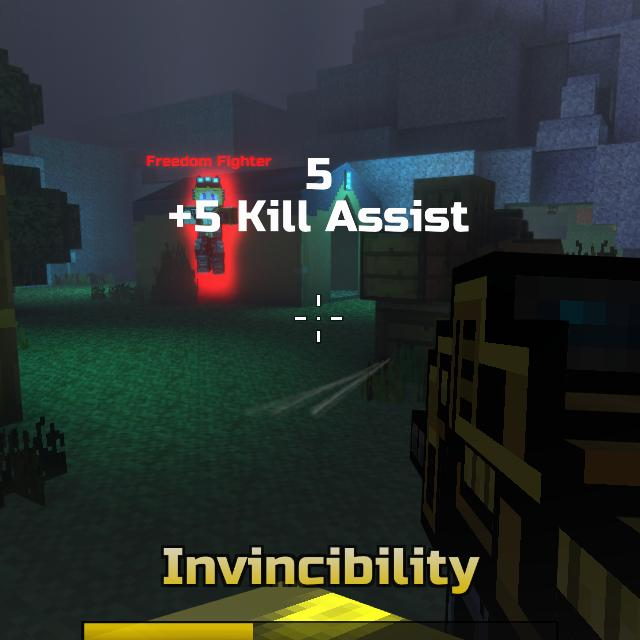Enemy: (182, 173, 239, 274)
